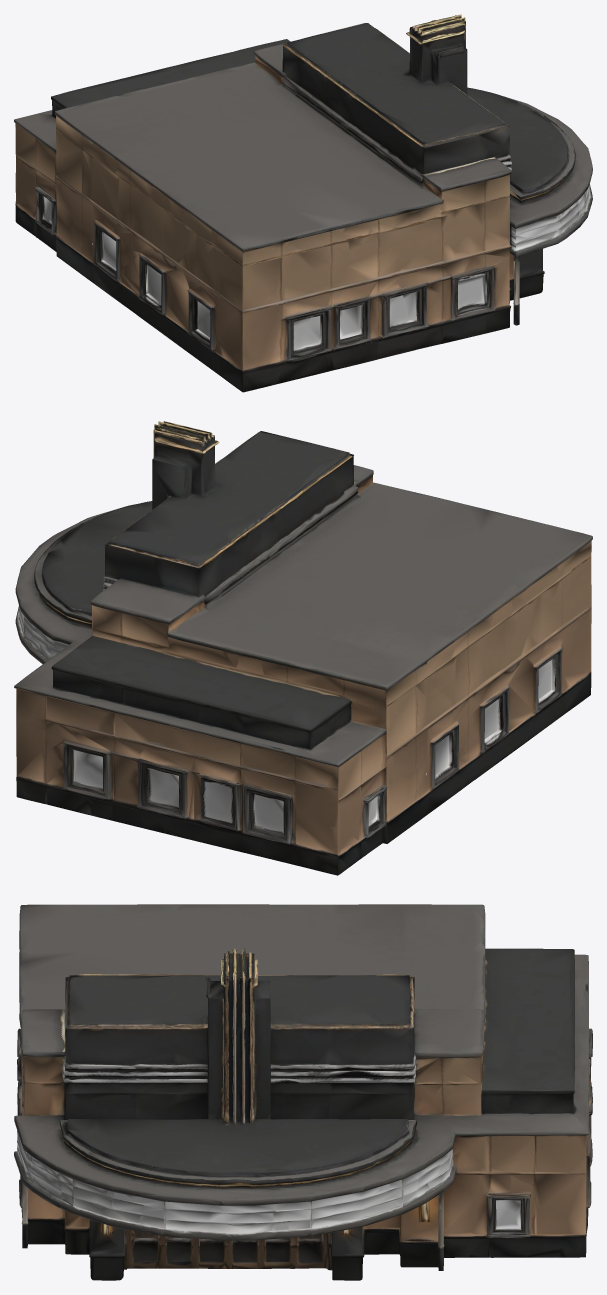
Rendered from cinema_lod1.glb.
3 views of the same model, one above another, from view 1: azimuth 30°, elevation 25°; view 2: azimuth 150°, elevation 25°; view 3: azimuth 270°, elevation 25° (orthographic). The views are drawn at different scales.
Parts seen in each view (by area): view 1: tripo_node_8db9cc81-a424-41ee-9432-07786de86a19; view 2: tripo_node_8db9cc81-a424-41ee-9432-07786de86a19; view 3: tripo_node_8db9cc81-a424-41ee-9432-07786de86a19.
Part boxes in pixels (bbox=[...]): tripo_node_8db9cc81-a424-41ee-9432-07786de86a19: bbox=[14, 14, 592, 392]; tripo_node_8db9cc81-a424-41ee-9432-07786de86a19: bbox=[14, 421, 592, 875]; tripo_node_8db9cc81-a424-41ee-9432-07786de86a19: bbox=[14, 904, 592, 1280].
Size of the model in its own units: 21.79 by 12 by 21.49.
1 material, 1 textured.
